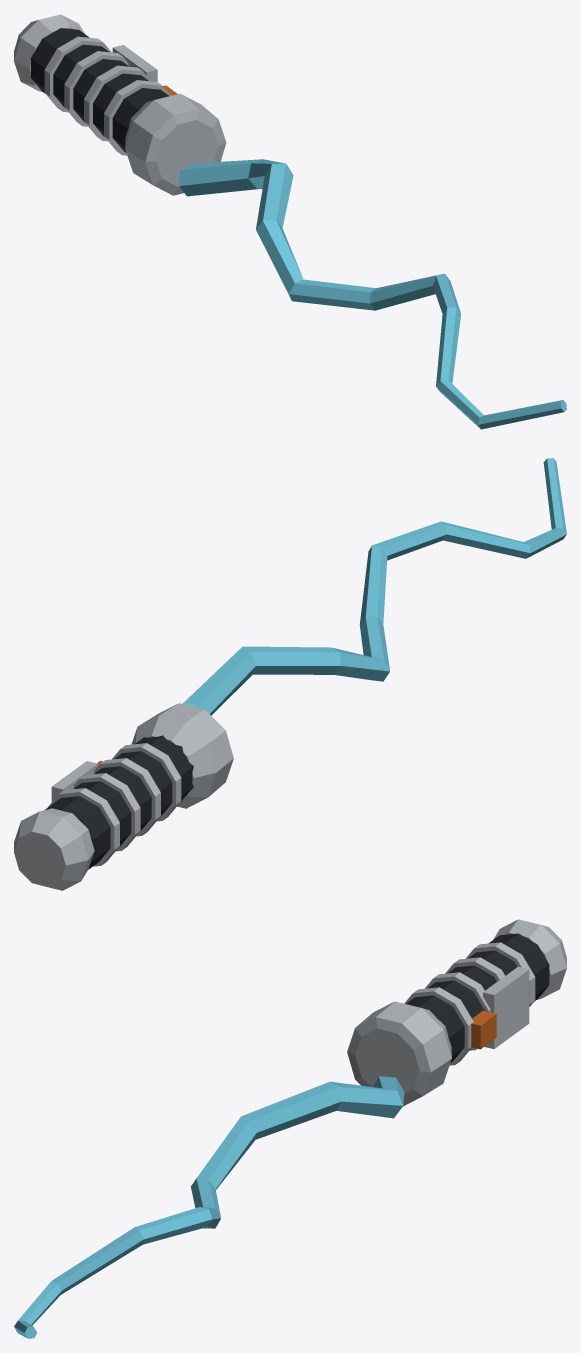
File: saber-whip.glb
The picture shows the model from 3 angles, top to bottom: view 1: azimuth 30°, elevation 25°; view 2: azimuth 150°, elevation 25°; view 3: azimuth 330°, elevation 25°; orthographic projection. The views are drawn at different scales.
Visible parts, largest first — view 1: m; view 2: m; view 3: m.
Boxes of the visible parts, x1,y1,x2,y2 form: m: (14,14,566,429); m: (14,458,566,890); m: (14,919,566,1338).
Size of the model in its own units: 0.0295 by 0.0251 by 0.2766.
